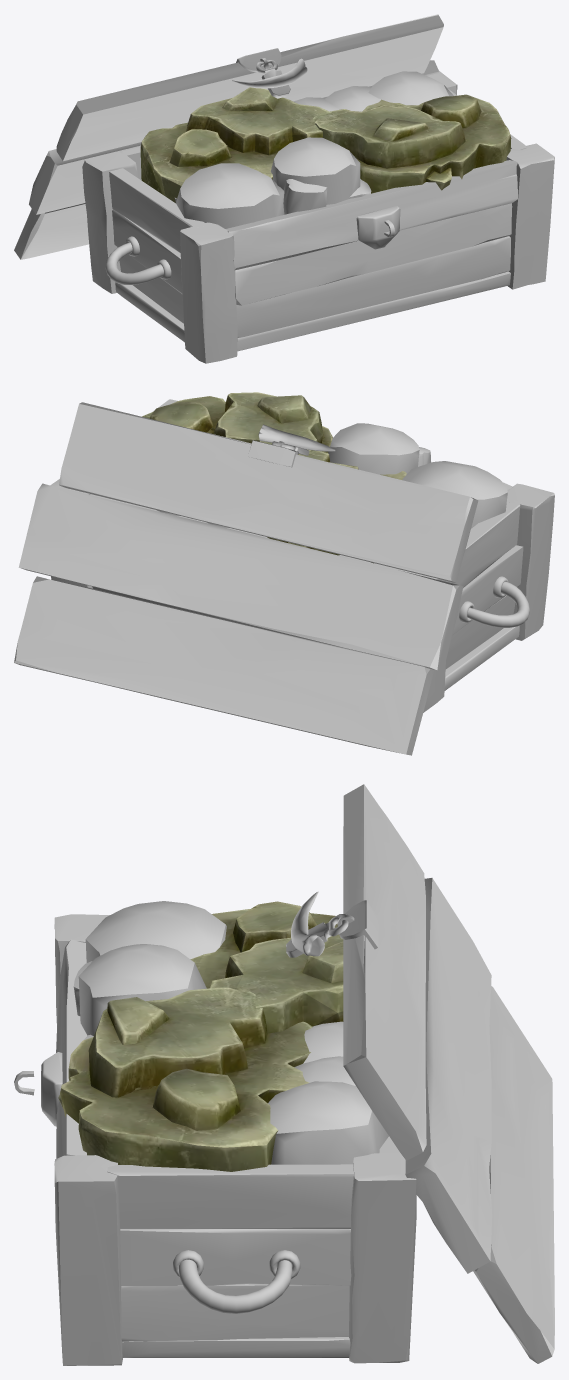
3 views of the same model, one above another, from view 1: azimuth 30°, elevation 25°; view 2: azimuth 150°, elevation 25°; view 3: azimuth 270°, elevation 25° (orthographic). The views are drawn at different scales.
Parts seen in each view (by area): view 1: SM_Dec_Garou_Chest_Tin_LOD0; view 2: SM_Dec_Garou_Chest_Tin_LOD0; view 3: SM_Dec_Garou_Chest_Tin_LOD0.
Boxes of the visible parts, x1=… form: SM_Dec_Garou_Chest_Tin_LOD0: x1=14, y1=14, x2=554, y2=363; SM_Dec_Garou_Chest_Tin_LOD0: x1=14, y1=392, x2=554, y2=755; SM_Dec_Garou_Chest_Tin_LOD0: x1=14, y1=784, x2=554, y2=1365.
Size of the model in its own units: 1.46 by 0.6916 by 1.07.
